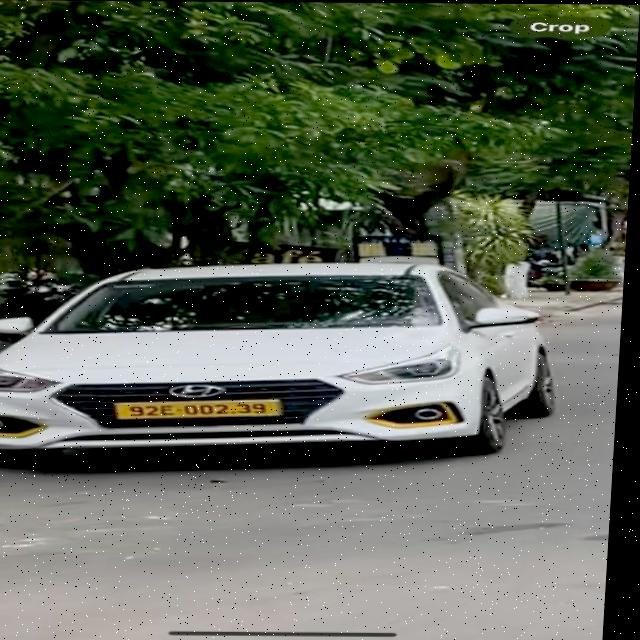car: (0, 247, 577, 490)
plate: (112, 394, 288, 427)
